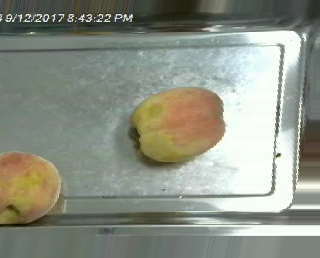Peach: (131, 87, 225, 161), (0, 150, 62, 224)
